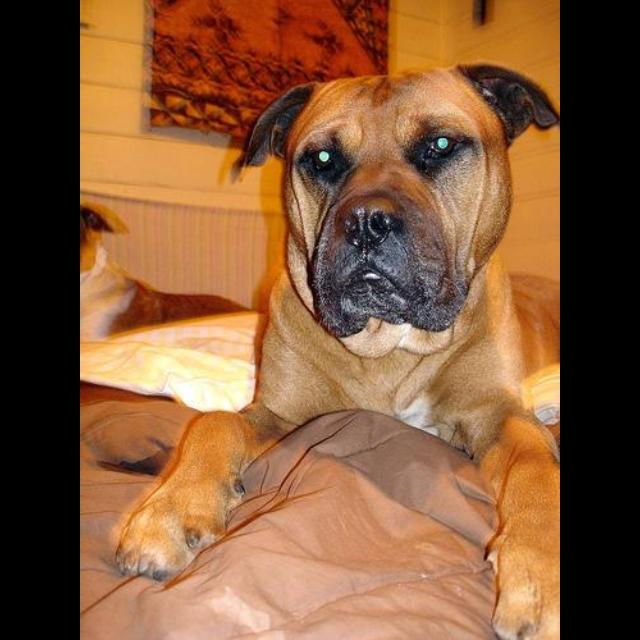bullmastiff: (112, 62, 560, 639)
